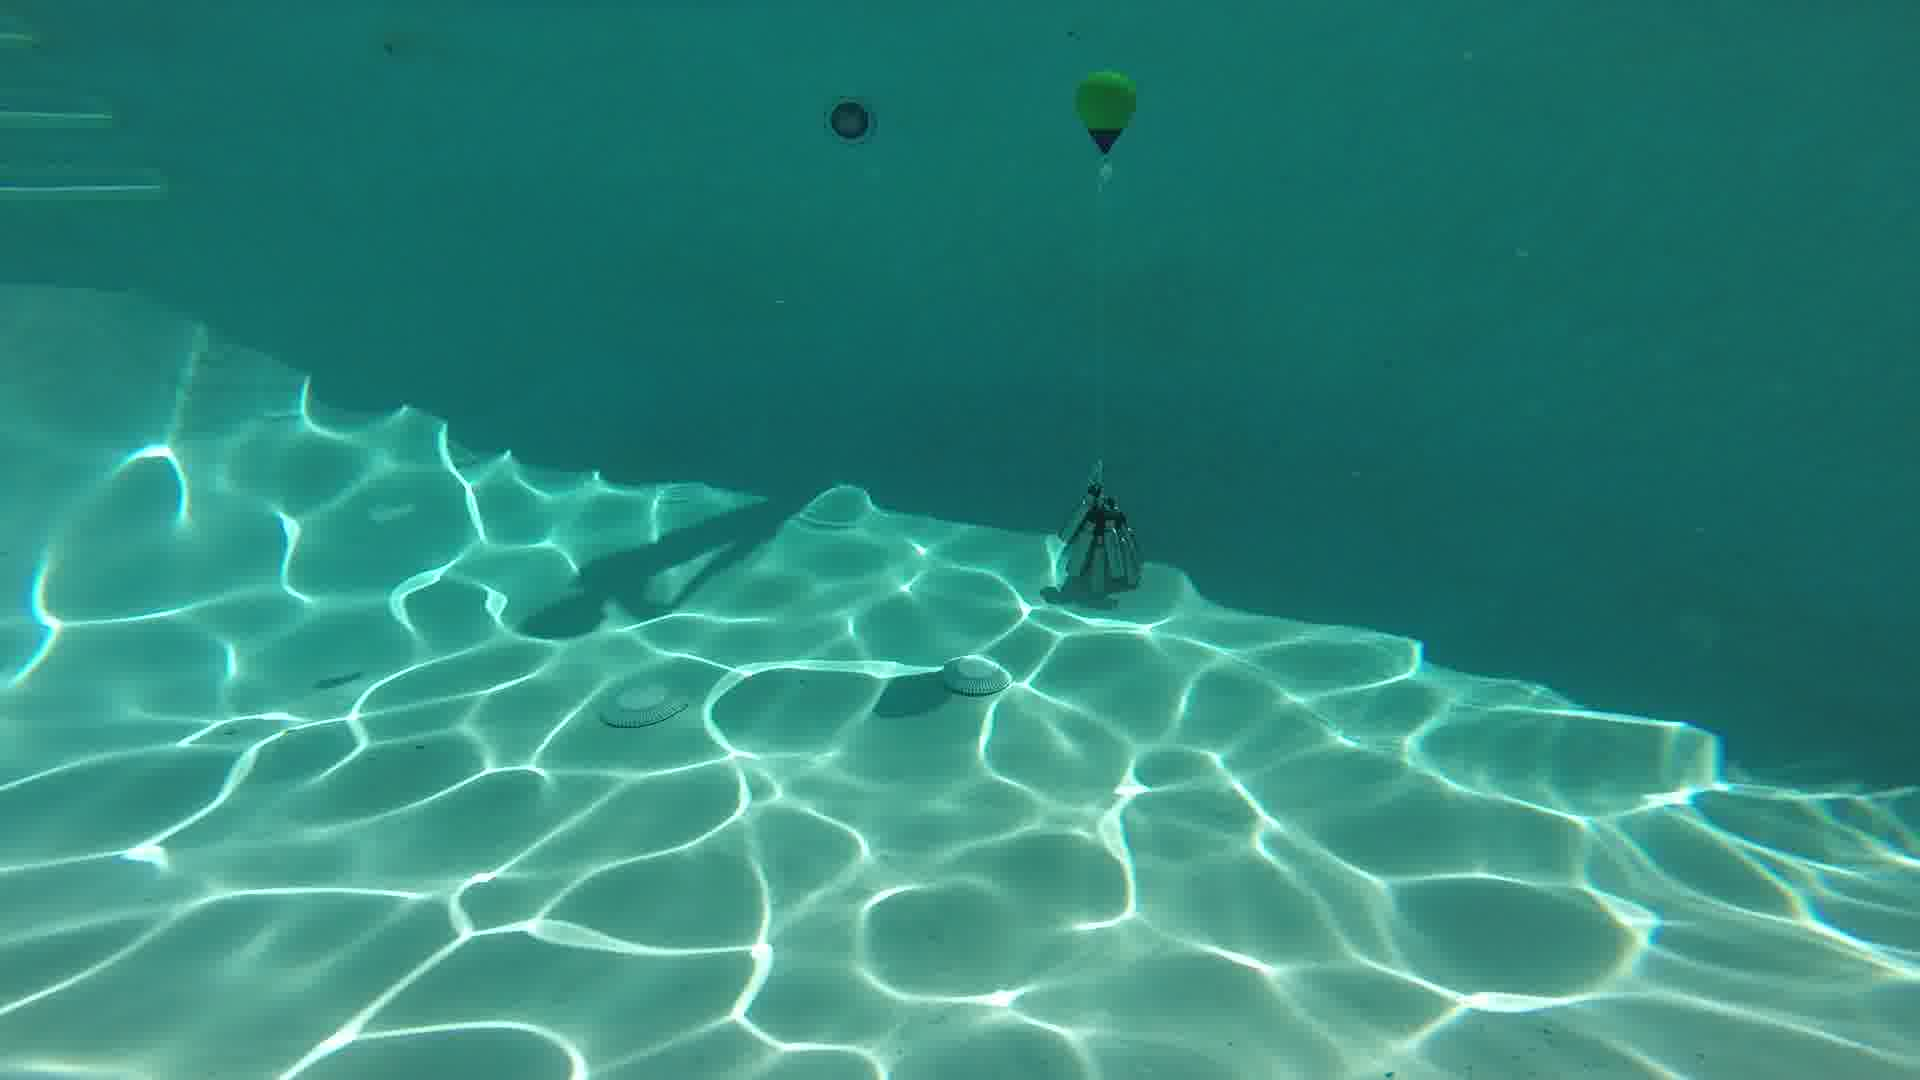yellow_buoy: (1077, 70, 1138, 152)
